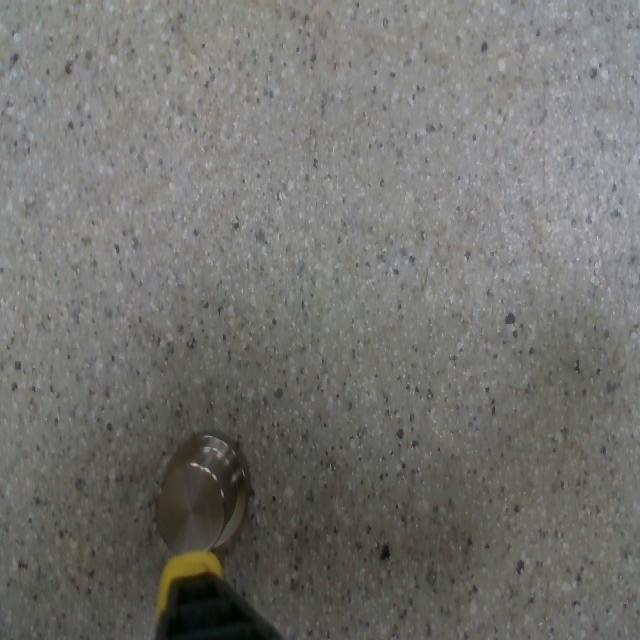sensor: (154, 431, 252, 556)
